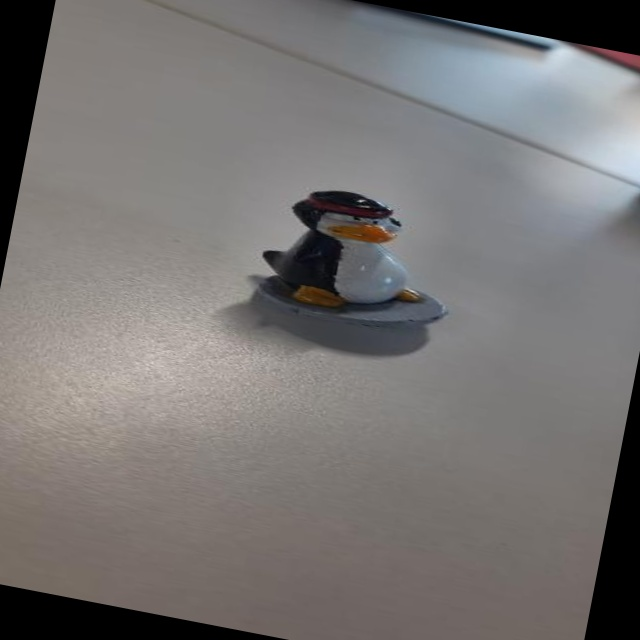Penguin: (228, 164, 468, 357)
